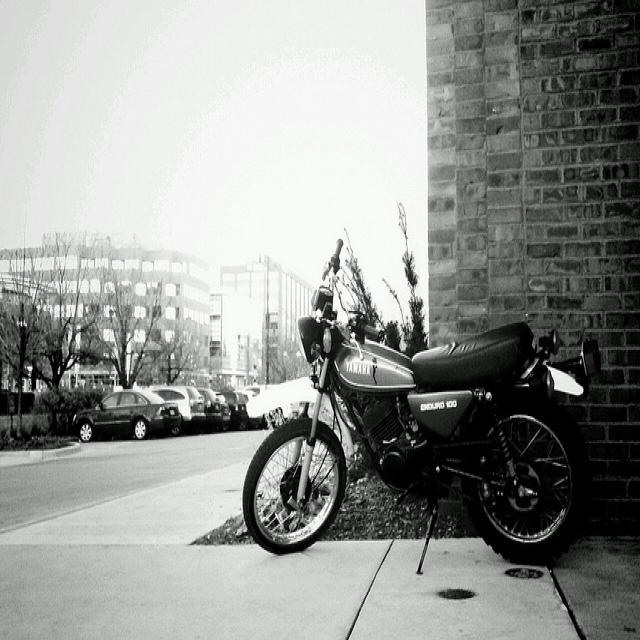motor: (242, 241, 599, 576)
